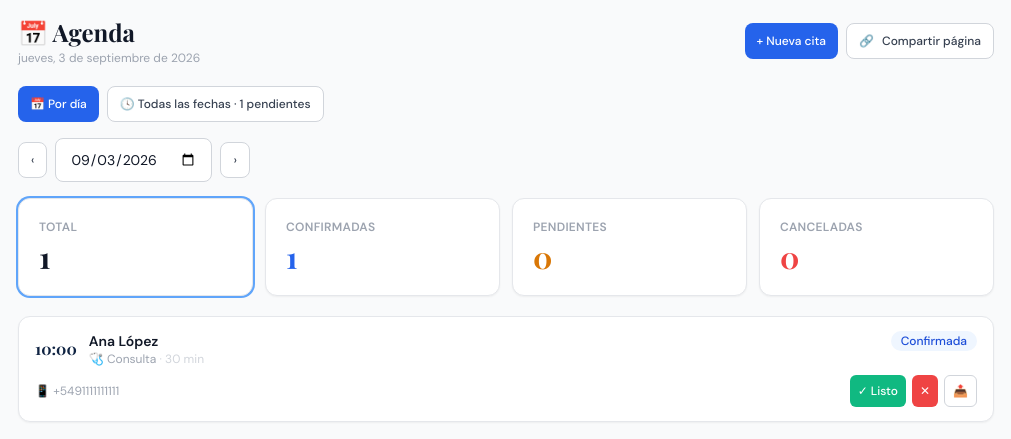
AgendaPage — vista unificada (reemplaza Hoy/Mañana/Pendientes) › el toggle "Todas las fechas" muestra citas de cualquier fecha, con la fecha visible en cada fila
This screenshot has width=1011, height=439.
Expected: the text "Ana López" is shown, [89, 332, 158, 350]
Step 1. Click the button "🕓 Todas las fechas · 1 pendientes" → (215, 104), box [107, 86, 324, 122]
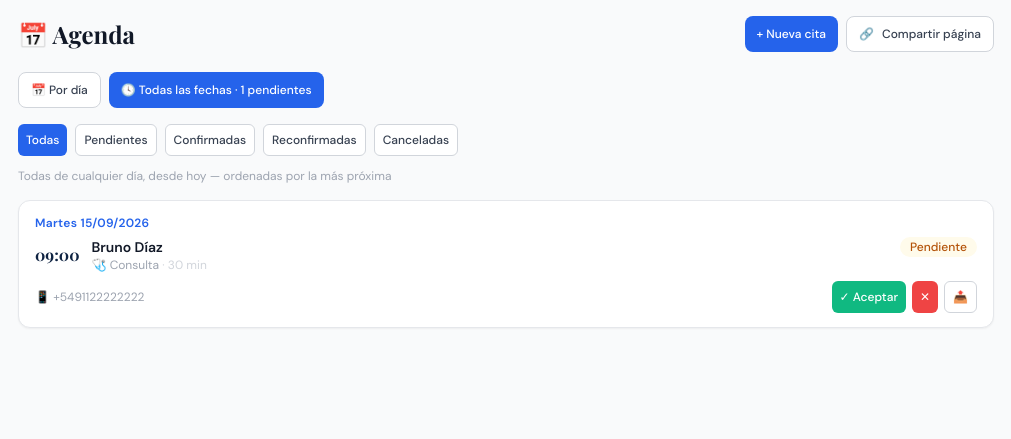
Now the text "Bruno Díaz" is shown, box [92, 238, 163, 256]
Now the text "Ana López" is gone
